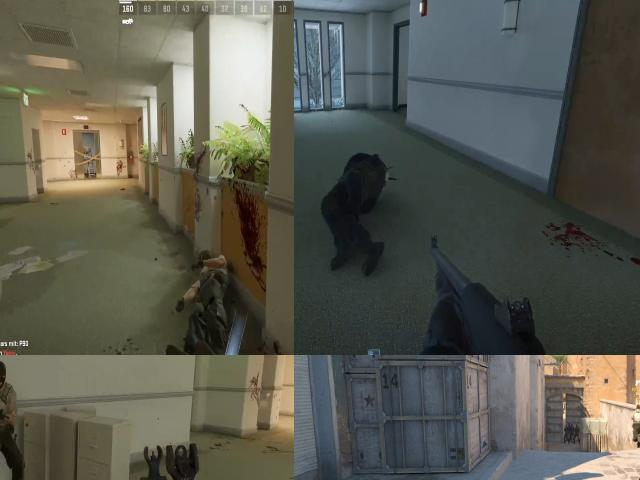CT: (564, 424, 569, 444), (574, 424, 579, 444), (568, 422, 572, 442), (571, 424, 575, 442)
CT-Head: (564, 424, 568, 428), (576, 424, 578, 428), (568, 423, 570, 427), (572, 424, 574, 427)
Dead: (329, 142, 405, 282), (180, 239, 236, 355)
T: (0, 355, 20, 450), (630, 404, 640, 447)
T-Head: (0, 357, 11, 391), (636, 402, 640, 409)
